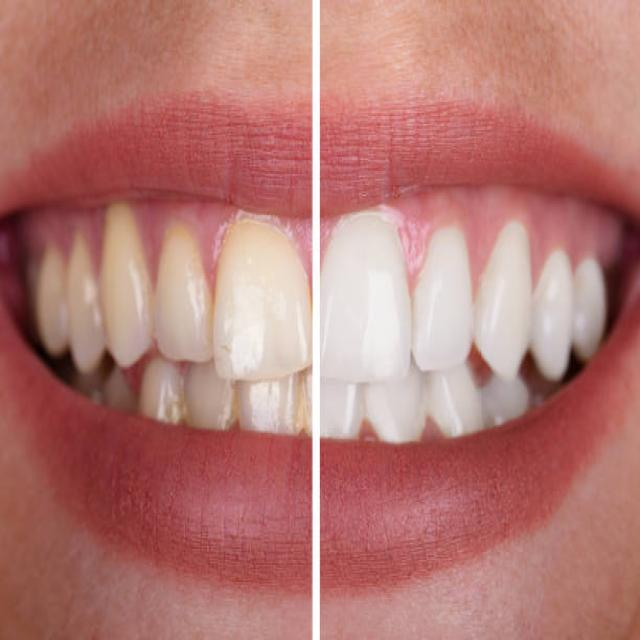tooth: (319, 212, 410, 376), (215, 223, 313, 372), (216, 226, 310, 370), (97, 207, 154, 344), (416, 232, 476, 362), (481, 226, 533, 362), (157, 232, 211, 342), (534, 237, 570, 367), (66, 248, 103, 356), (575, 258, 607, 346), (36, 251, 64, 339)
